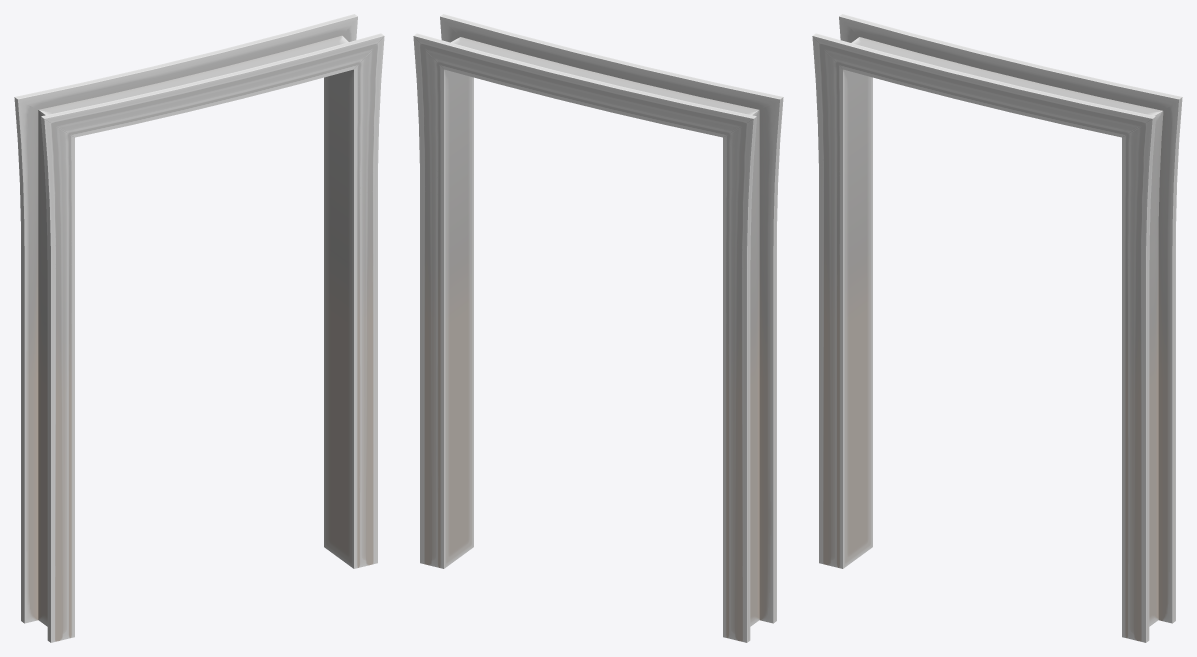
File: PropDoorFrame01TypeA.FBX
The picture shows the model from 3 angles, left to right: view 1: azimuth 30°, elevation 25°; view 2: azimuth 150°, elevation 25°; view 3: azimuth 330°, elevation 25°; orthographic projection.
Parts seen in each view (by area): view 1: PropDoorFrame01TypeA; view 2: PropDoorFrame01TypeA; view 3: PropDoorFrame01TypeA.
Boxes of the visible parts, x1,y1,x2,y2 form: PropDoorFrame01TypeA: (14, 14, 384, 642); PropDoorFrame01TypeA: (413, 14, 783, 642); PropDoorFrame01TypeA: (812, 14, 1182, 642).
Size of what is drawn, in the model's own units: 1.71 by 2.52 by 0.26.
